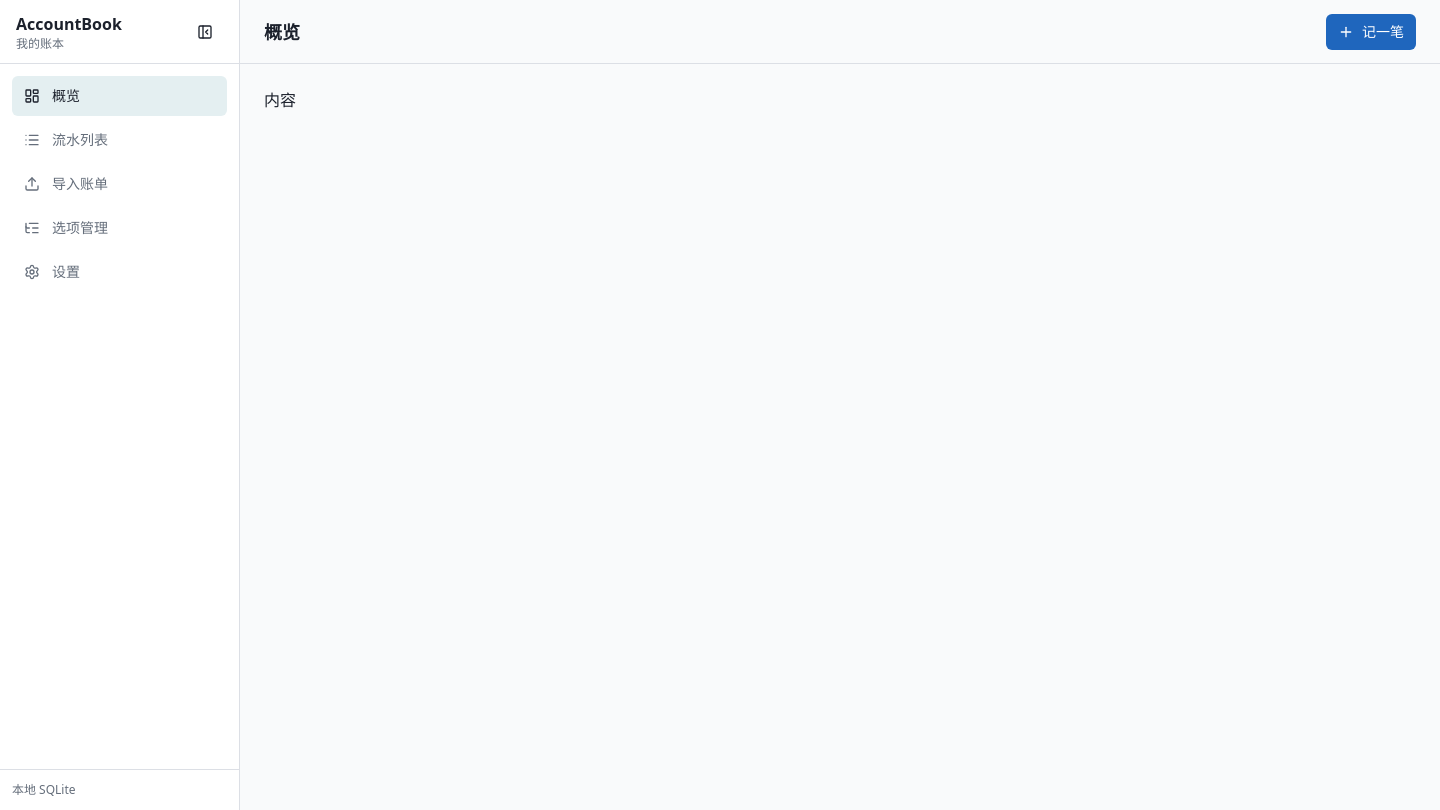
AppShell › collapses and expands the desktop sidebar without changing navigation
Click the button named "收起侧边栏".
click(205, 32)  # box [187,14,223,50]
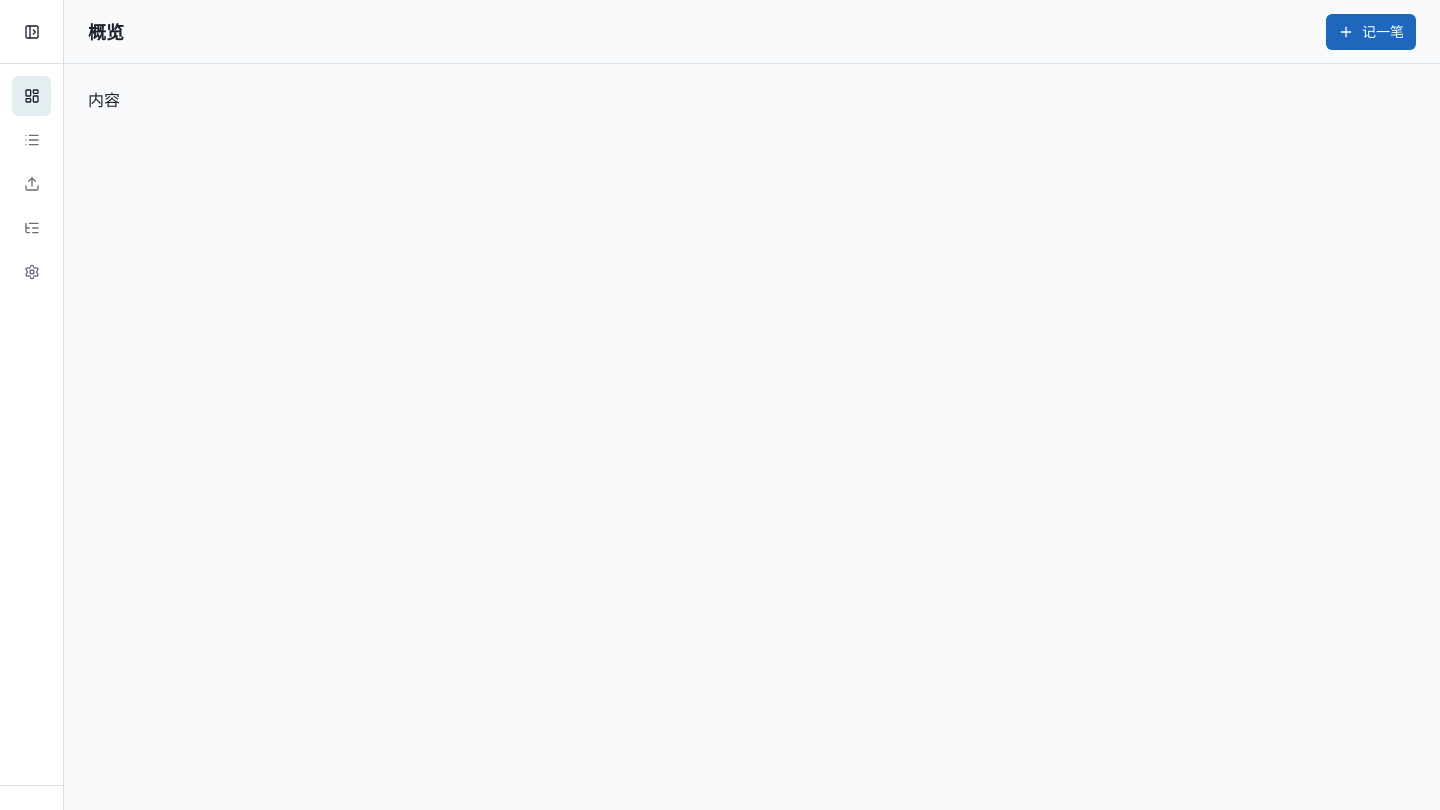
Expected: the button titled "流水列表" is shown, [12,120,51,160]
Now the button named "展开侧边栏" is shown
Click the button named "展开侧边栏".
click(32, 32)  # box [14,14,50,50]
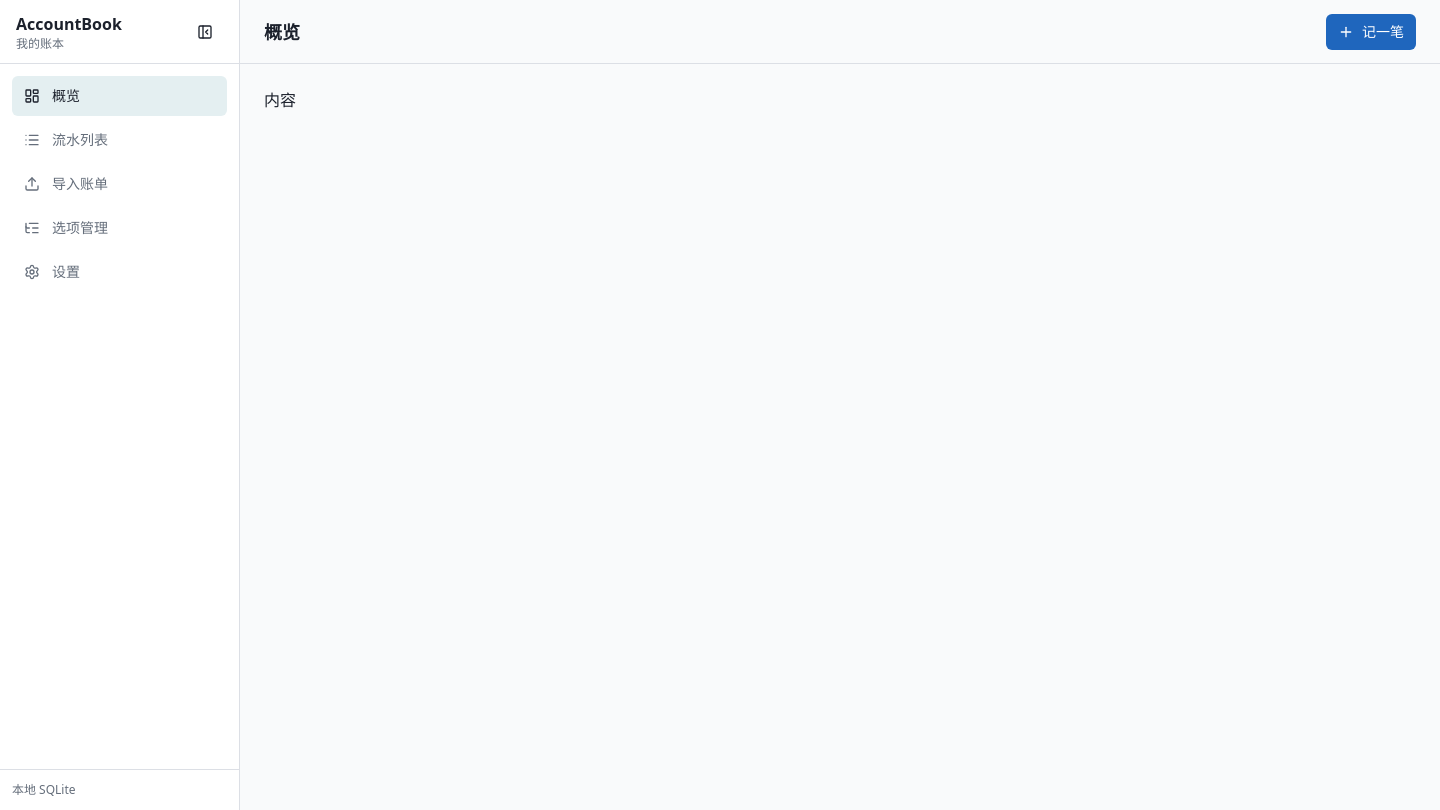
Now the button named "收起侧边栏" is shown, box [187,14,223,50]
